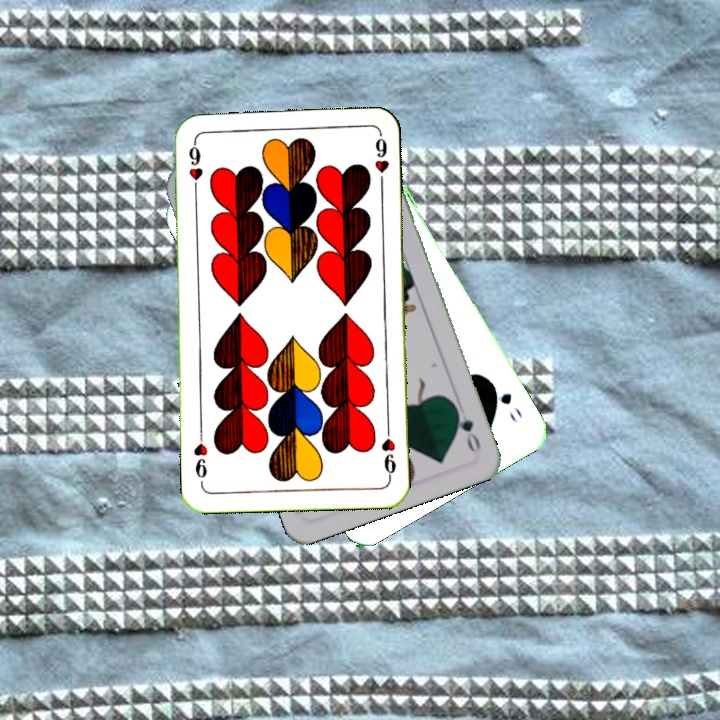GO: (486, 378, 525, 426), (450, 401, 483, 457)
H9: (377, 423, 399, 482), (184, 138, 206, 197)
